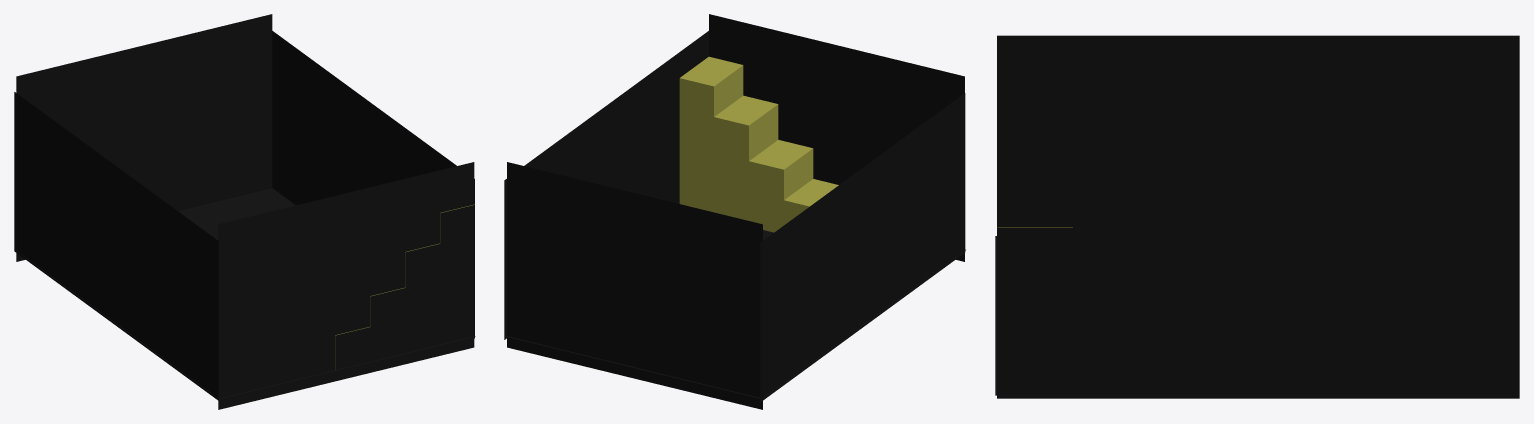
Rendered from SmallPit.fbx.
3 views of the same model, side by side, from view 1: azimuth 30°, elevation 25°; view 2: azimuth 150°, elevation 25°; view 3: azimuth 270°, elevation 25° (orthographic). The views are drawn at different scales.
Parts seen in each view (by area): view 1: SmallPitWall, SmallPitWall1, SmallPitWall3, SmallPitWall2, SmallPitGround; view 2: SmallPitWall3, SmallPitWall1, SmallPitWall, SmallPitStairs, SmallPitWall2, SmallPitGround; view 3: SmallPitWall2, SmallPitWall1, SmallPitGround.
Boxes of the visible parts, x1,y1,x2,y2 form: SmallPitWall: (218, 162, 474, 409); SmallPitWall1: (14, 92, 218, 400); SmallPitWall3: (16, 14, 272, 261); SmallPitWall2: (272, 31, 474, 338); SmallPitGround: (15, 188, 475, 399); SmallPitWall3: (507, 162, 762, 409); SmallPitWall1: (760, 93, 965, 402); SmallPitWall: (709, 14, 964, 261); SmallPitStairs: (679, 56, 838, 232); SmallPitWall2: (504, 31, 708, 339); SmallPitGround: (506, 230, 965, 399); SmallPitWall2: (997, 194, 1519, 398); SmallPitWall1: (997, 35, 1519, 194); SmallPitGround: (995, 236, 1515, 395).
Bounding box in the file's own units: 7.38 × 5.07 × 10.18.
